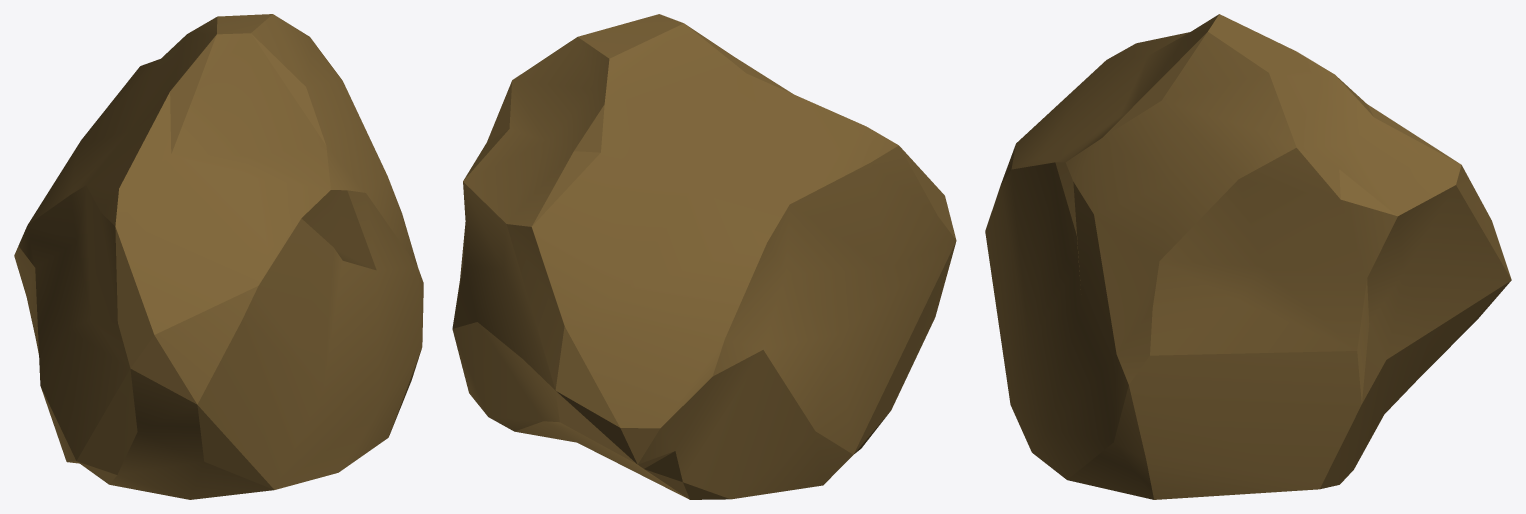
Rendered from RockM2.FBX.
The picture shows the model from 3 angles, left to right: view 1: azimuth 30°, elevation 25°; view 2: azimuth 150°, elevation 25°; view 3: azimuth 270°, elevation 25°; orthographic projection. The views are drawn at different scales.
Visible parts, largest first — view 1: Object005; view 2: Object005; view 3: Object005.
Part boxes in pixels (box(x1,y1,x2,y2)): Object005: box(14, 14, 423, 499); Object005: box(452, 14, 956, 499); Object005: box(985, 14, 1511, 499).
Bounding box in the file's own units: 130 × 145 × 159.
